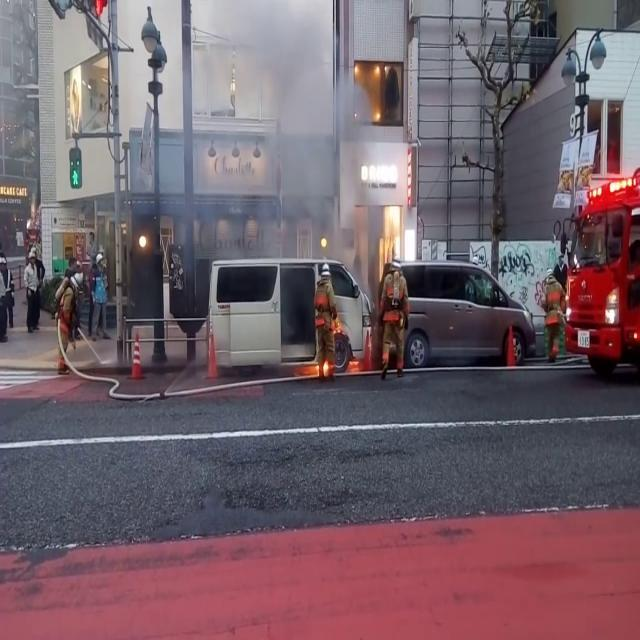Fire: (376, 194, 403, 278)
Smoke: (149, 0, 366, 293)
